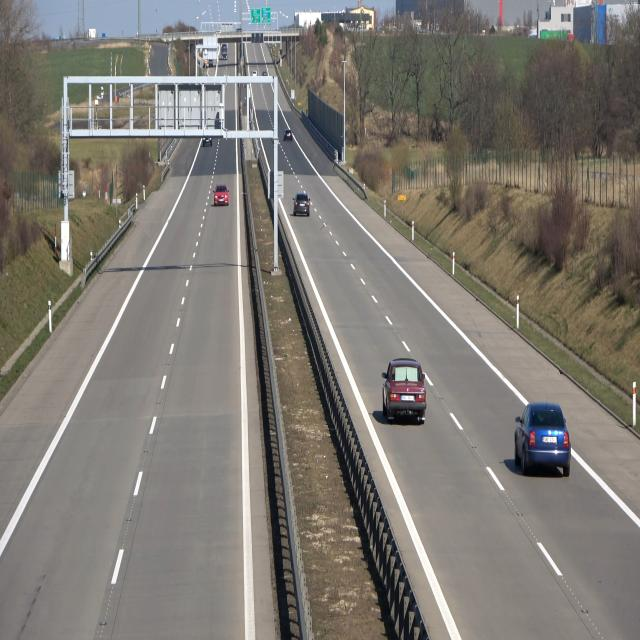Car: (512, 397, 574, 482), (386, 356, 428, 424), (293, 191, 311, 217), (214, 184, 230, 206), (284, 127, 294, 143)
